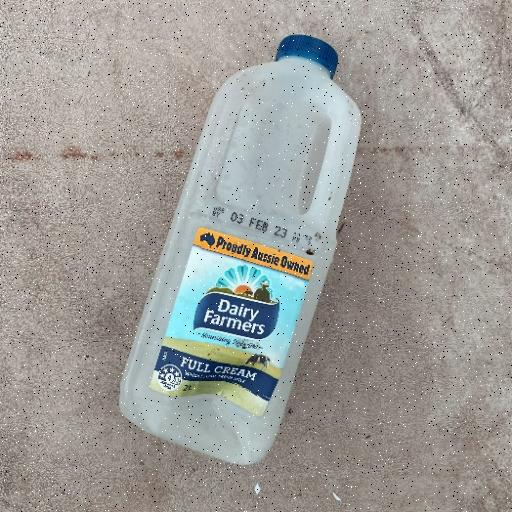Plastic: (116, 32, 364, 465)
